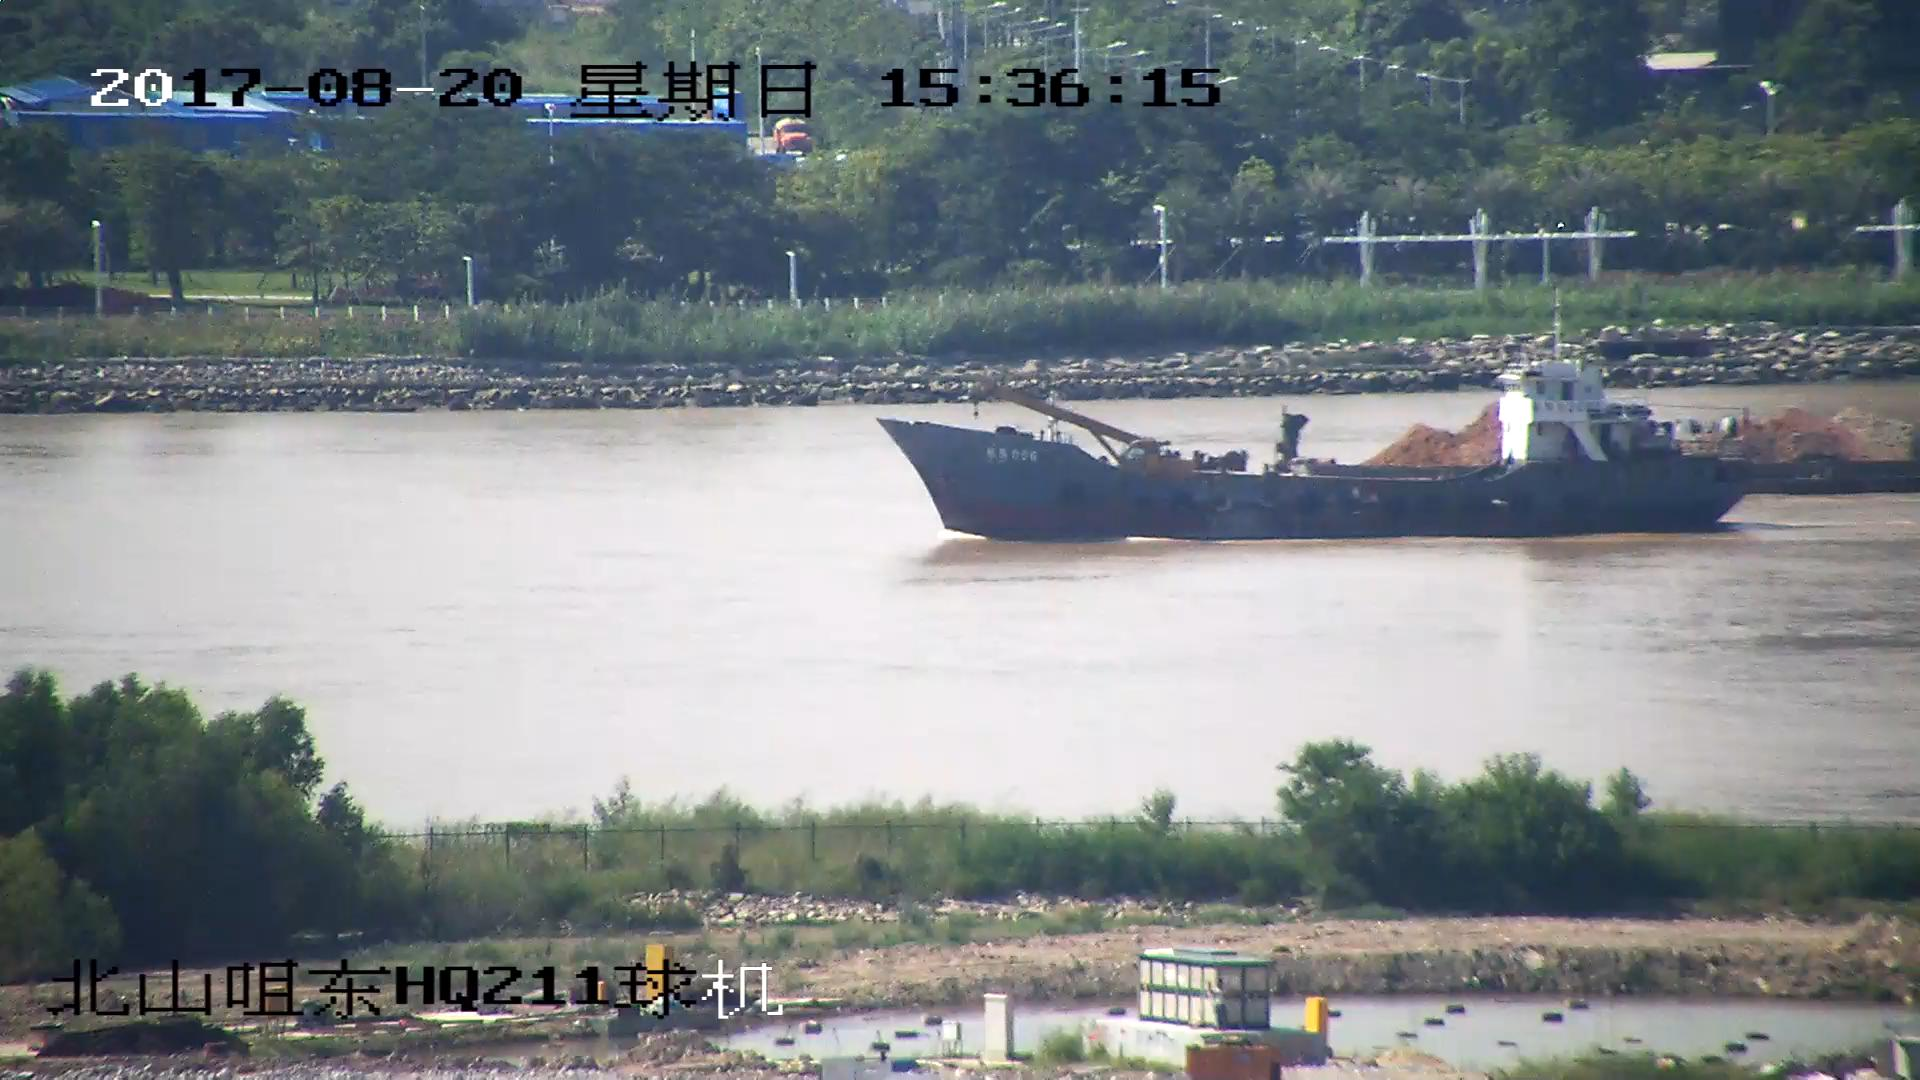general cargo ship: (876, 284, 1751, 544)
ore carrier: (1284, 386, 1920, 500)
